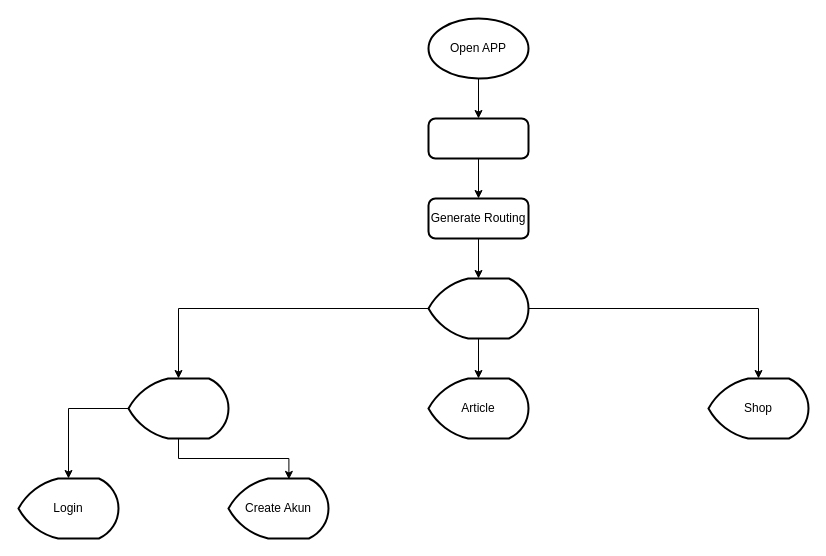
Some shapes in this 826 by 556 pixel diagram are drawn without their labels. Here are the shapes that lost their labels. From the top down, the centre of each, then its label:
the point at 478,138: Splash Screen
the point at 478,308: Navigator Display
the point at 178,408: Profile
